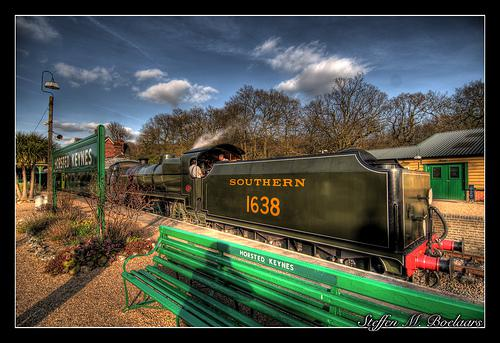Train: (104, 145, 469, 287)
